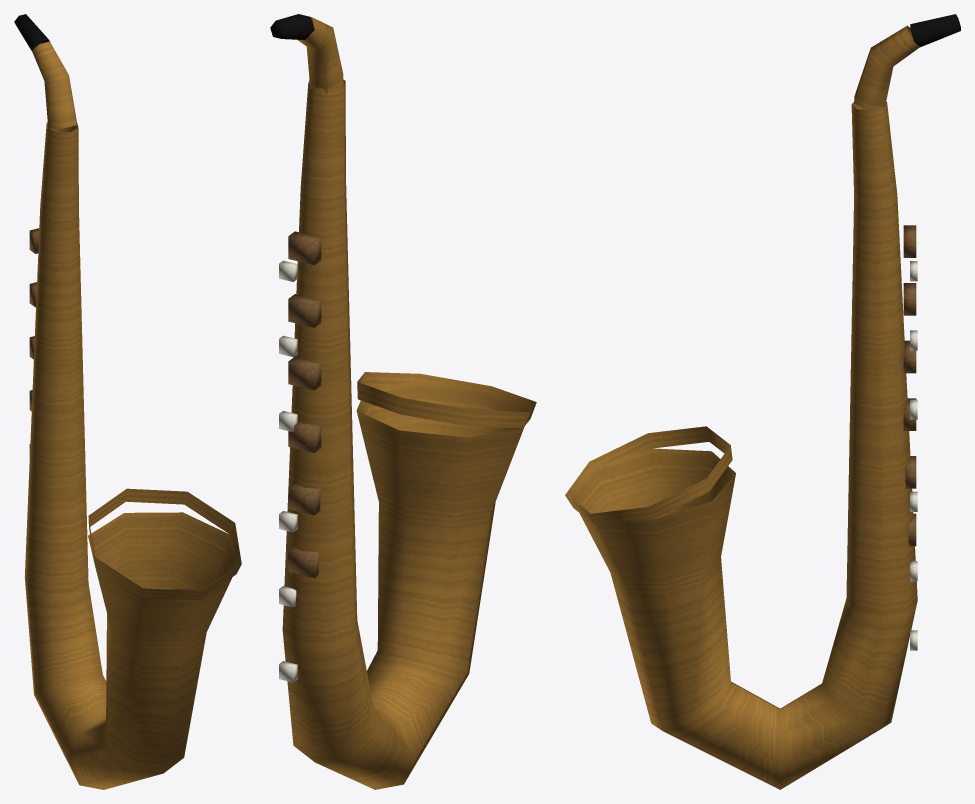
Rendered from alto_sax_2.glb.
3 views of the same model, side by side, from view 1: azimuth 30°, elevation 25°; view 2: azimuth 150°, elevation 25°; view 3: azimuth 270°, elevation 25° (orthographic). The views are drawn at different scales.
Parts seen in each view (by area): view 1: alto_sax_2; view 2: alto_sax_2; view 3: alto_sax_2.
Part boxes in pixels (<box>): alto_sax_2: <box>14,14,241,789</box>; alto_sax_2: <box>270,14,536,789</box>; alto_sax_2: <box>565,14,960,789</box>.
Bounding box in the file's own units: 0.1373 × 0.6697 × 0.3111.
4 materials, 4 textured.
